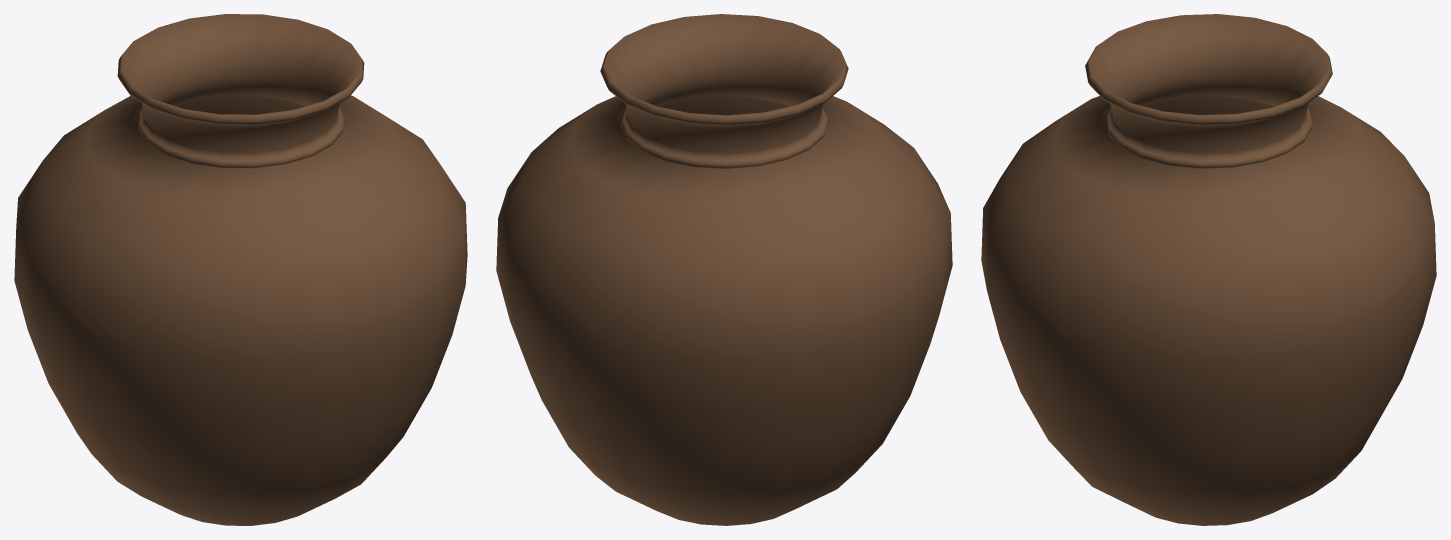
Rendered from Vase_4.fbx.
3 views of the same model, side by side, from view 1: azimuth 30°, elevation 25°; view 2: azimuth 150°, elevation 25°; view 3: azimuth 270°, elevation 25° (orthographic).
Visible parts, largest first — view 1: Vase_4; view 2: Vase_4; view 3: Vase_4.
Boxes of the visible parts, left/top/right/bottom form: Vase_4: left=14, top=14, right=467, bottom=525; Vase_4: left=496, top=14, right=952, bottom=525; Vase_4: left=981, top=14, right=1436, bottom=525.
Size of the model in its own units: 86.65 by 89.8 by 86.65.
Materials: 1 (1 with a texture image).
